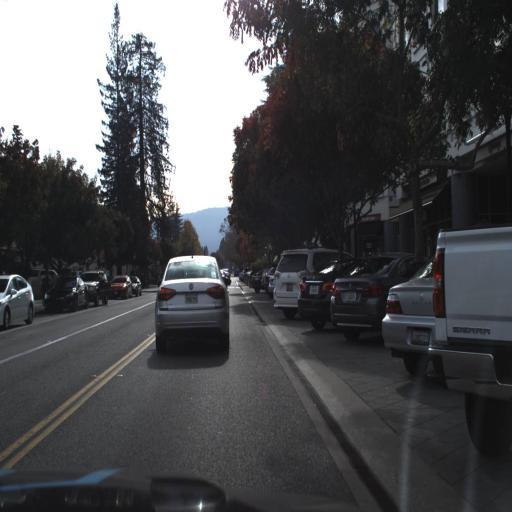car: (433, 223, 512, 463), (155, 255, 229, 363), (383, 260, 434, 375), (331, 256, 384, 337), (296, 260, 331, 339), (270, 245, 299, 323), (297, 265, 331, 327), (0, 275, 35, 330), (273, 250, 298, 313), (43, 276, 88, 309), (81, 266, 116, 307), (86, 269, 108, 303), (110, 273, 130, 298), (132, 273, 143, 297)
